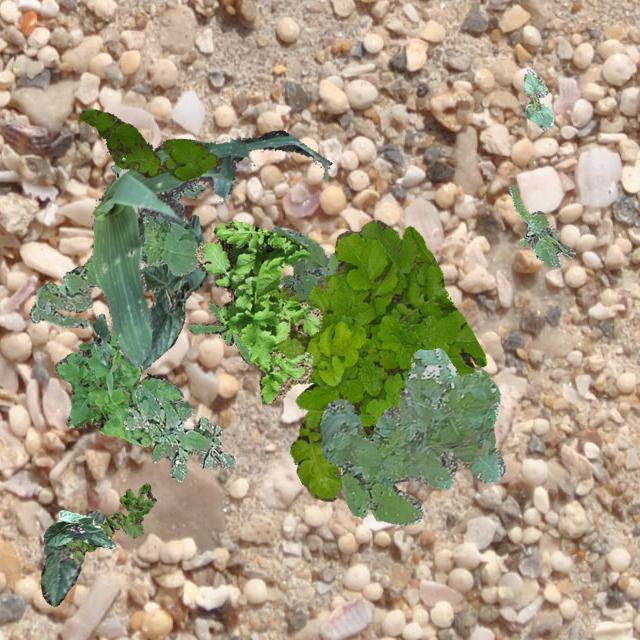crop: (90, 130, 330, 366), (140, 213, 206, 369), (41, 508, 102, 606), (42, 510, 114, 548), (522, 68, 552, 128), (90, 312, 112, 366)
weed: (262, 220, 486, 500), (321, 348, 504, 524), (194, 220, 320, 402), (28, 216, 202, 328), (54, 330, 182, 446), (122, 384, 232, 481), (78, 108, 216, 180), (64, 482, 154, 564), (110, 163, 204, 230), (508, 184, 574, 268), (270, 224, 338, 302), (186, 300, 252, 362), (280, 256, 304, 294)
